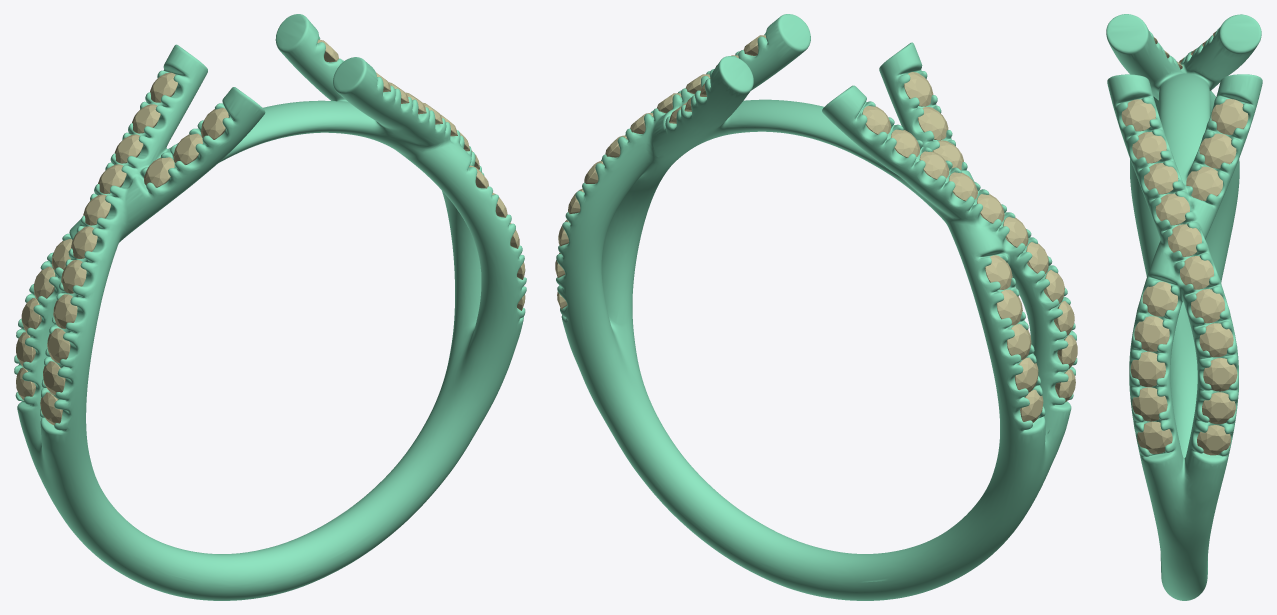
3 views of the same model, side by side, from view 1: azimuth 30°, elevation 25°; view 2: azimuth 150°, elevation 25°; view 3: azimuth 270°, elevation 25° (orthographic).
Parts seen in each view (by area): view 1: Metal02; view 2: Metal02, Diamond_Gem.031, Diamond_Gem.032; view 3: Metal02, Diamond_Gem.024, Diamond_Gem.025, Diamond_Gem.023, Diamond_Gem.022, Diamond_Gem.026, Diamond_Gem.027, Diamond_Gem.028, Diamond_Gem.014, Diamond_Gem.015, Diamond_Gem.013, Diamond_Gem.016 (+8 smaller).
Part boxes in pixels (x1,y1,x2,y2): Metal02: (14, 14, 526, 600); Metal02: (556, 14, 1077, 600); Diamond_Gem.031: (918, 107, 948, 140); Diamond_Gem.032: (904, 72, 933, 106); Metal02: (1106, 14, 1262, 600); Diamond_Gem.024: (1211, 99, 1248, 134); Diamond_Gem.025: (1199, 133, 1236, 168); Diamond_Gem.023: (1134, 316, 1169, 351); Diamond_Gem.022: (1142, 281, 1177, 316); Diamond_Gem.026: (1186, 166, 1222, 200); Diamond_Gem.027: (1130, 351, 1165, 386); Diamond_Gem.028: (1132, 387, 1167, 421); Diamond_Gem.014: (1199, 323, 1233, 357); Diamond_Gem.015: (1191, 289, 1224, 323); Diamond_Gem.013: (1203, 358, 1237, 391); Diamond_Gem.016: (1180, 256, 1213, 289).
Size of the model in its own units: 21.01 by 22.53 by 6.02.
